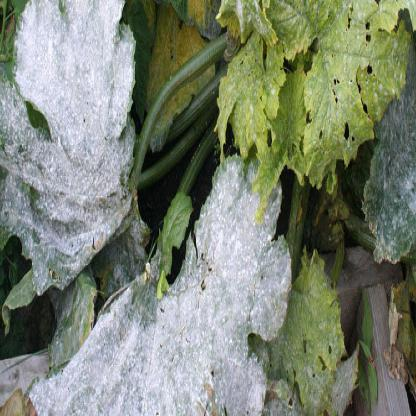Squash Powdery mildew leaf: (32, 146, 291, 415), (1, 1, 133, 276)
